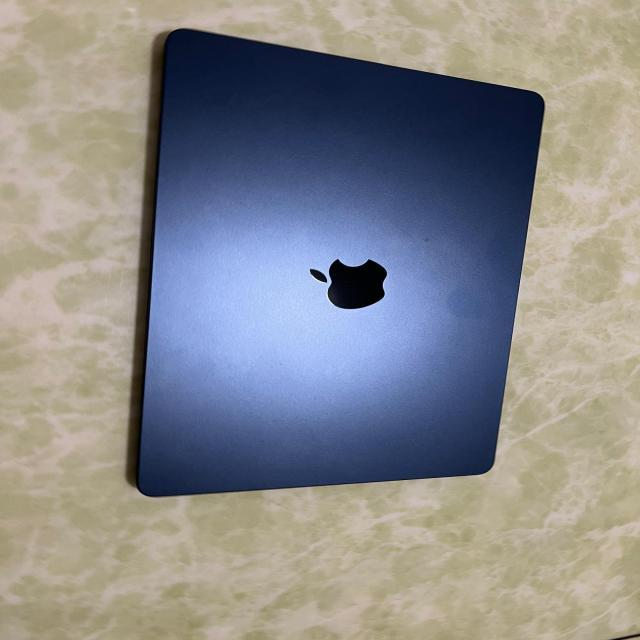laptop: (132, 26, 545, 497)
